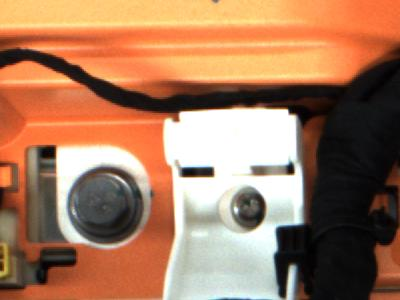nut_b: (64, 160, 147, 244)
